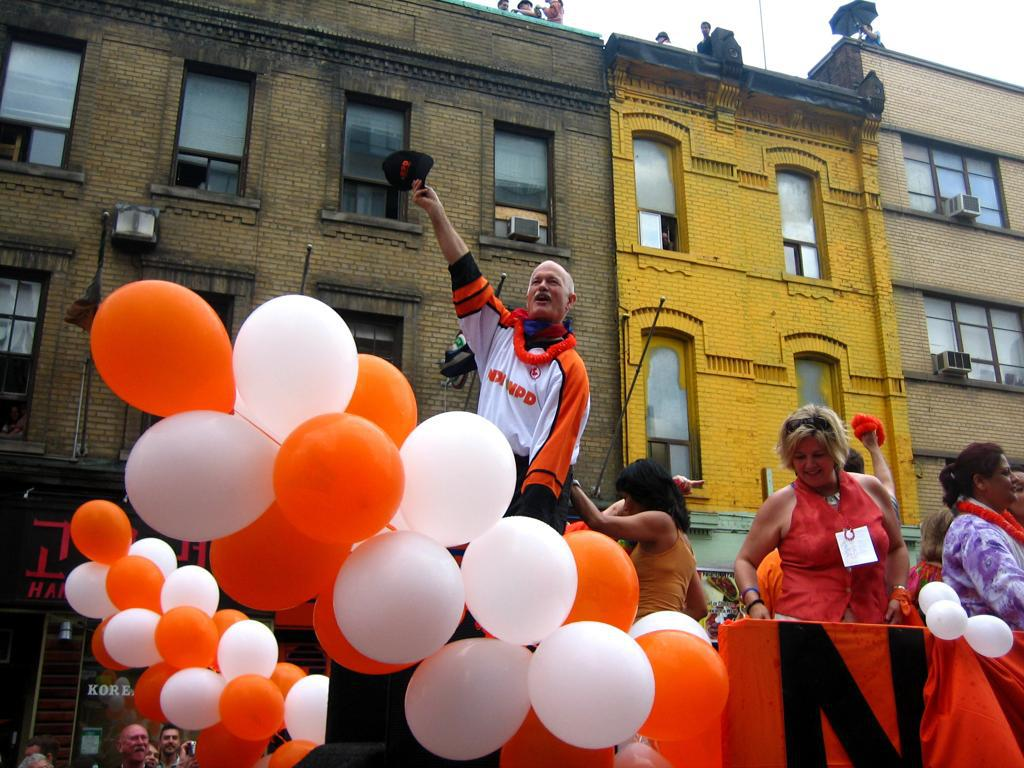face: (528, 265, 567, 316), (793, 440, 834, 488), (985, 457, 1018, 501), (122, 727, 149, 761), (619, 486, 641, 523), (1008, 473, 1024, 509), (161, 730, 180, 754), (144, 747, 159, 768), (11, 408, 19, 420), (702, 24, 710, 34), (523, 3, 532, 11), (501, 3, 508, 11)
